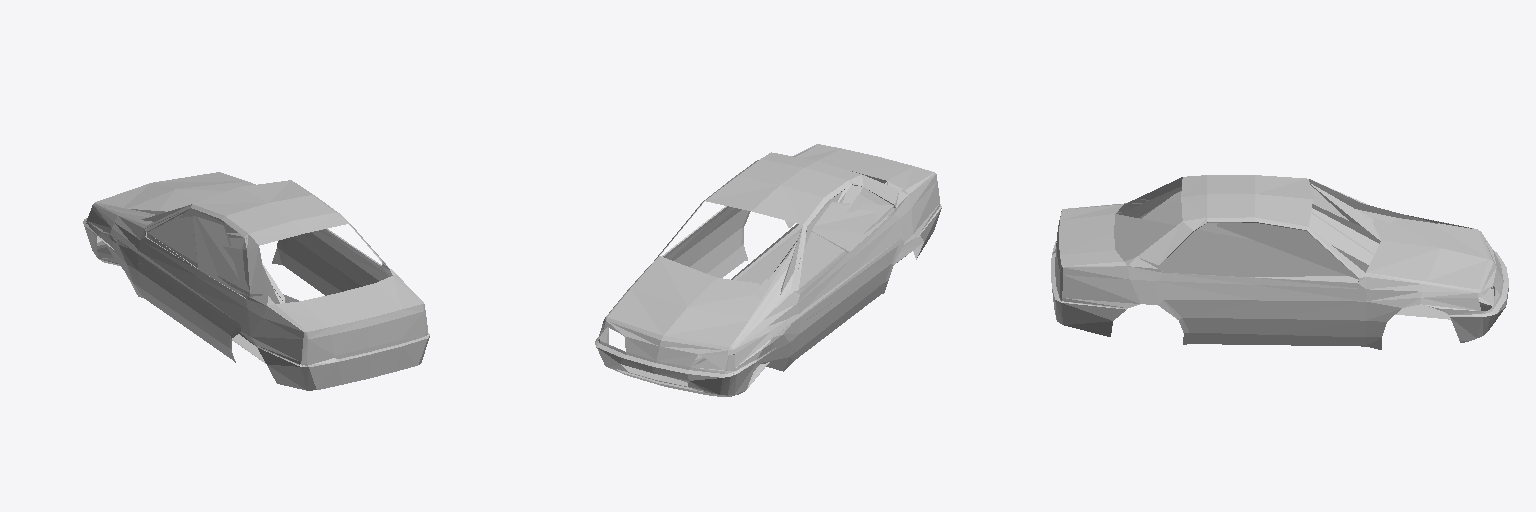
Rendered from Car.obj.
3 views of the same model, side by side, from view 1: azimuth 30°, elevation 25°; view 2: azimuth 150°, elevation 25°; view 3: azimuth 270°, elevation 25° (orthographic).
Parts seen in each view (by area): view 1: Body1, UnderCar1, Plastik6, Plastik4; view 2: Body1, UnderCar1, Plastik6, Plastik4, Plastik5; view 3: Body1, UnderCar1, Plastik4, Plastik5.
Boxes of the visible parts, x1,y1,x2,y2 form: Body1: [83, 172, 429, 390]; UnderCar1: [86, 202, 337, 366]; Plastik6: [97, 214, 249, 294]; Plastik4: [98, 216, 243, 296]; Body1: [595, 144, 941, 396]; UnderCar1: [670, 181, 941, 391]; Plastik6: [667, 186, 893, 376]; Plastik4: [691, 194, 889, 394]; Plastik5: [691, 185, 886, 365]; Body1: [1051, 175, 1508, 349]; UnderCar1: [1052, 179, 1495, 319]; Plastik4: [1217, 184, 1492, 311]; Plastik5: [1217, 184, 1491, 309].
Size of the model in its own units: 169 by 131 by 441.